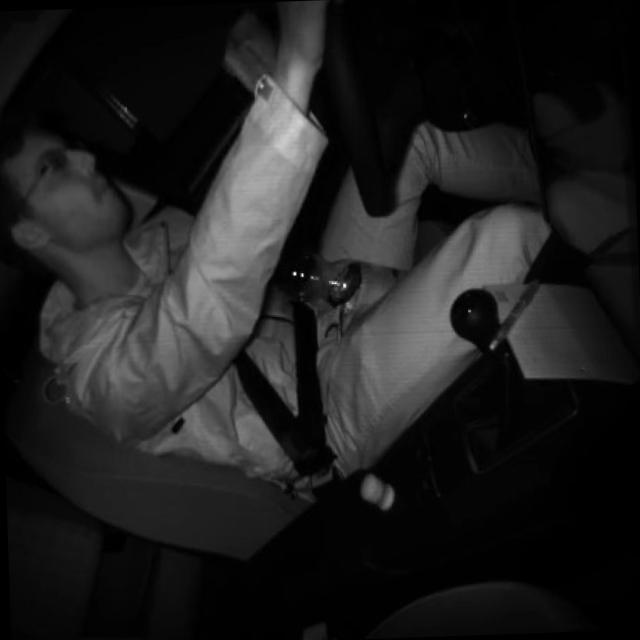pen: (484, 274, 546, 352)
